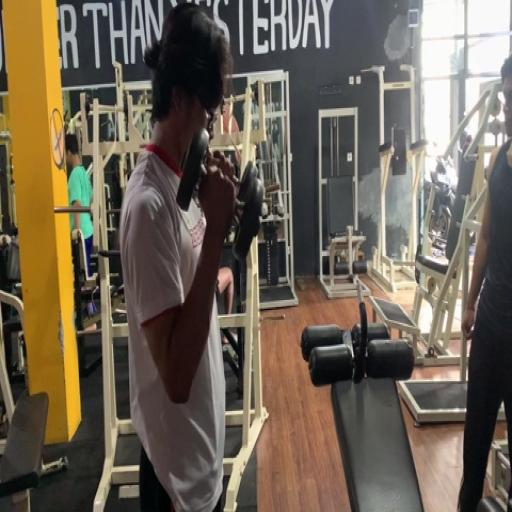exercise: (118, 0, 244, 511), (453, 48, 511, 510)
